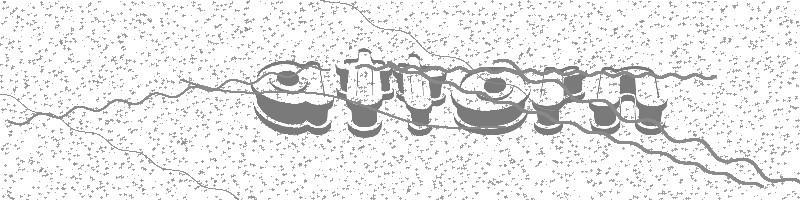a: (250, 59, 337, 137)
n: (588, 65, 668, 137)
o: (448, 65, 529, 136)
r: (530, 65, 586, 136)
t: (335, 47, 396, 139), (394, 52, 448, 137)
